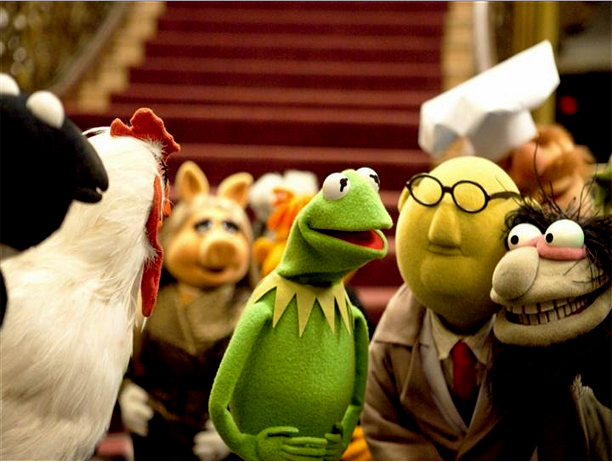kermit: (282, 161, 392, 293)
